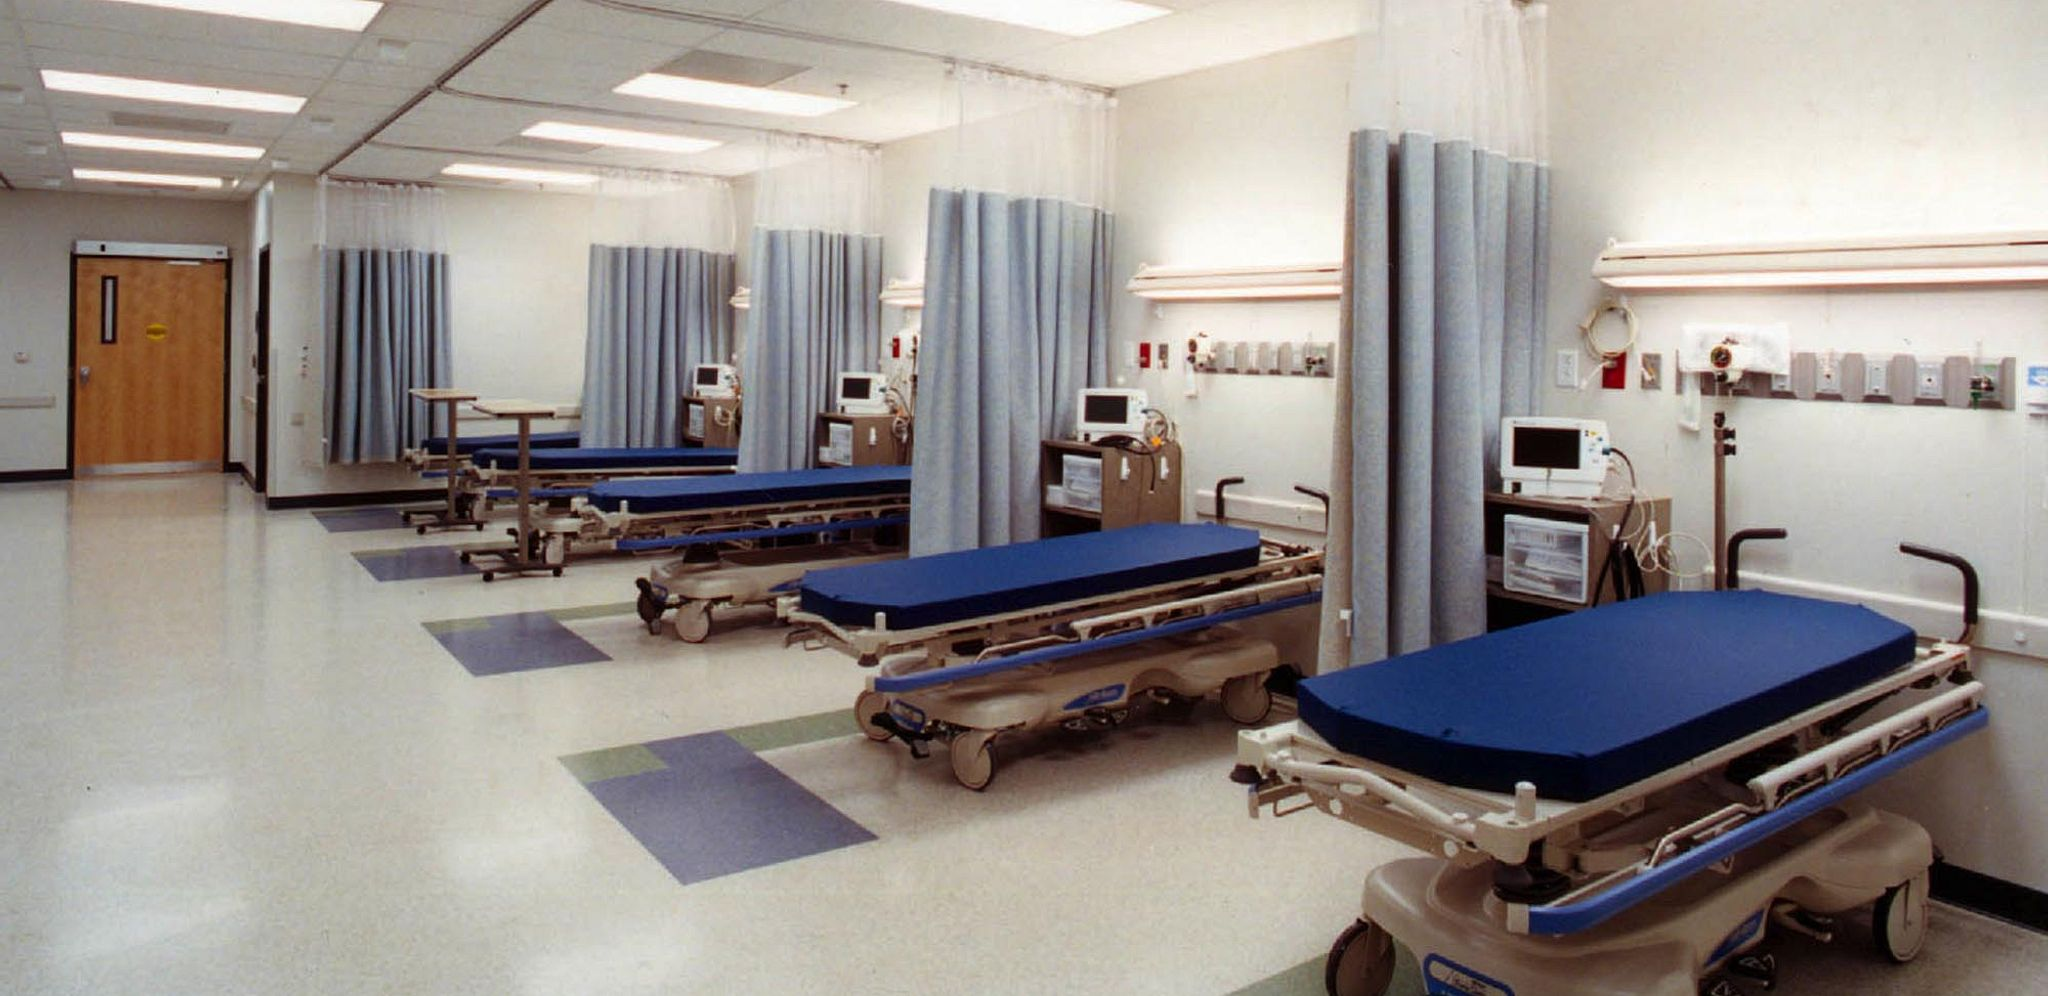bedrail: (1565, 681, 1989, 922), (1063, 561, 1320, 663), (765, 478, 910, 537)
bedside_monitor: (1501, 416, 1608, 473), (1079, 386, 1159, 443), (835, 376, 893, 410), (692, 367, 737, 399)
bedside_table: (1447, 486, 1695, 620), (1041, 444, 1187, 540), (806, 414, 896, 471), (677, 402, 737, 446)
curtain: (1336, 1, 1554, 610), (926, 65, 1115, 563), (741, 134, 892, 473), (585, 167, 735, 448), (317, 172, 456, 465)
door_handle: (81, 366, 91, 379)
hospital_bed: (1114, 587, 1983, 996), (778, 525, 1296, 790), (579, 454, 909, 645), (478, 443, 754, 580), (424, 426, 568, 529)
overbed_table: (458, 396, 556, 582), (398, 380, 482, 540)
